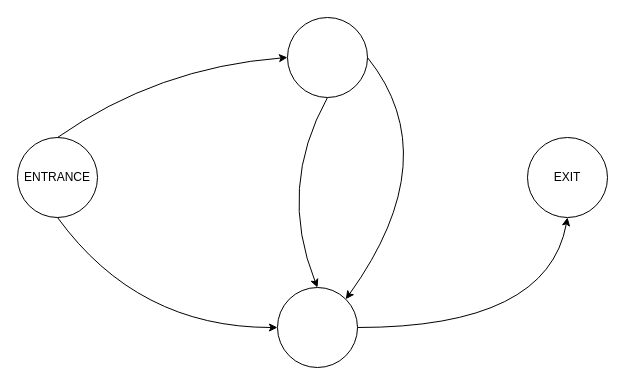
The diagram is 625 pixels wide and 385 high, and some of its shapes have lost their labels. Here are the shapes that lost their labels. From the top down, the box of each, then its label:
(286, 16, 368, 98): C1
(276, 286, 358, 368): C2
